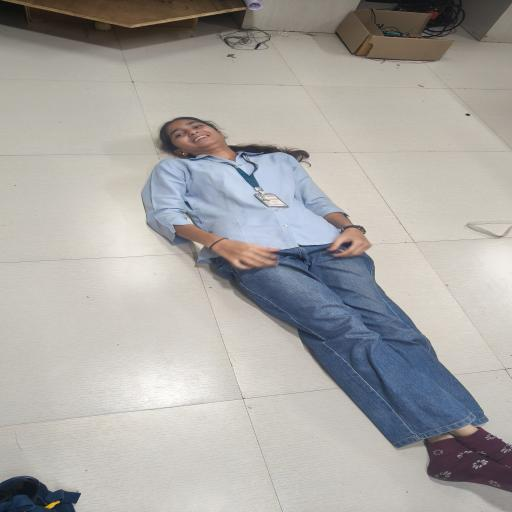survivor: (140, 117, 512, 494)
